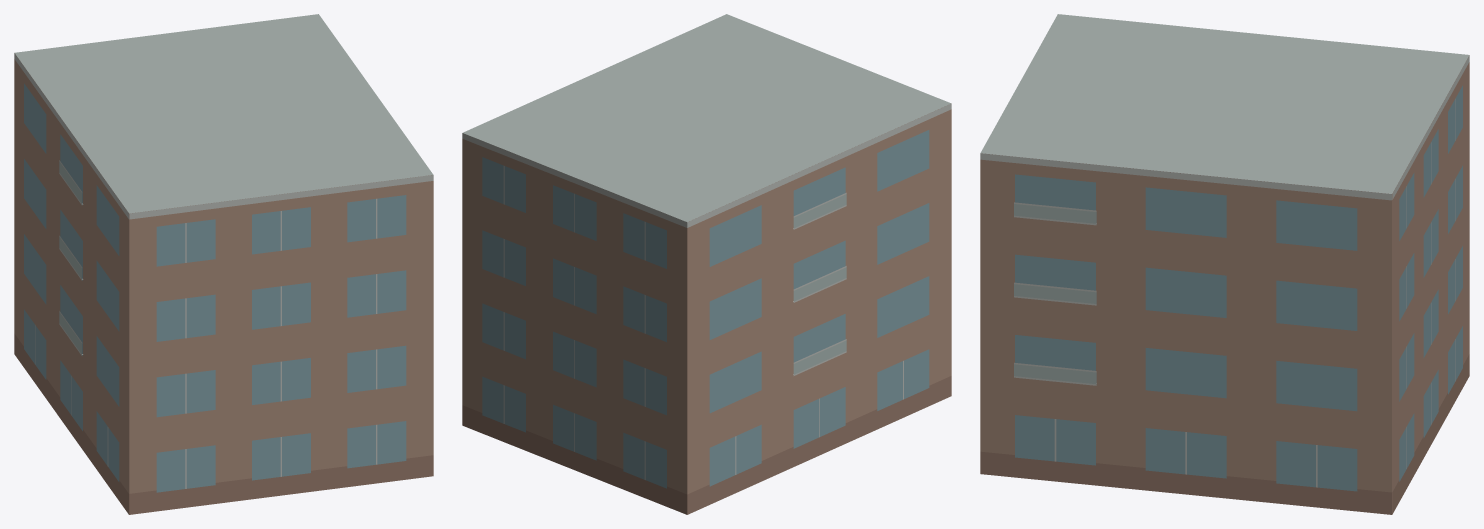
The model's file is residential-bc249974-e759-420c-a47c-df93813bacd7.glb.
The picture shows the model from 3 angles, left to right: view 1: azimuth 30°, elevation 25°; view 2: azimuth 150°, elevation 25°; view 3: azimuth 270°, elevation 25°; orthographic projection. The views are drawn at different scales.
Visible parts, largest first — view 1: residential-bc249974-e759-420c-a47c-df93813bacd7.tmp; view 2: residential-bc249974-e759-420c-a47c-df93813bacd7.tmp; view 3: residential-bc249974-e759-420c-a47c-df93813bacd7.tmp.
Boxes of the visible parts, box(x1,y1,x2,y2) form: residential-bc249974-e759-420c-a47c-df93813bacd7.tmp: box(14, 14, 433, 514); residential-bc249974-e759-420c-a47c-df93813bacd7.tmp: box(462, 14, 951, 514); residential-bc249974-e759-420c-a47c-df93813bacd7.tmp: box(980, 14, 1469, 514).
Size of the model in its own units: 14.7 by 12.2 by 16.88.
